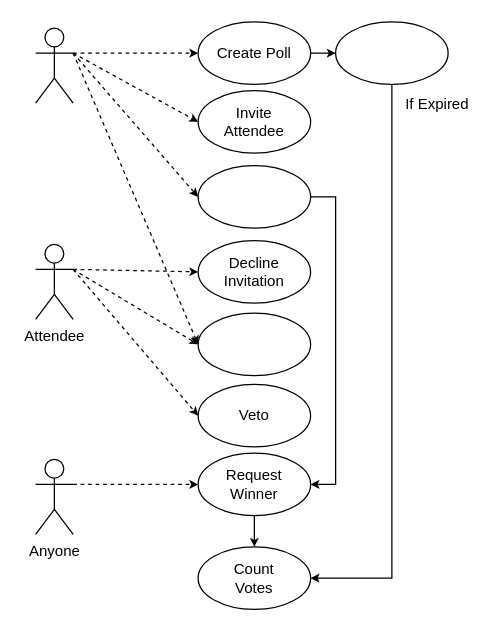
This 490x631 diagram has some shape labels left out. The shapes that lost their labels are listed below. From the top down, each one's box as (x1, y1, x2, y2) in pixels, then its label:
(34, 27, 73, 103): Organizer
(334, 21, 448, 84): Check Time
(197, 164, 311, 228): Close Poll
(197, 312, 311, 376): Vote
